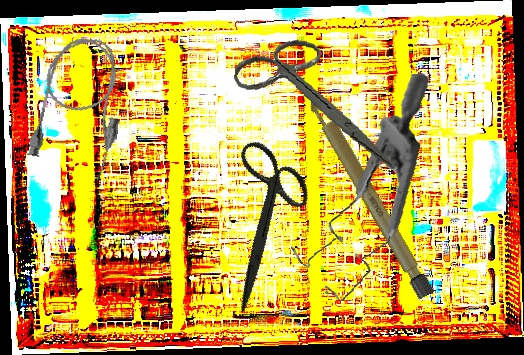Cannula: (25, 30, 136, 182)
Iris Scissors: (184, 128, 342, 314), (225, 31, 406, 169)
Scalpel Handle: (304, 91, 436, 300)
Speculum: (274, 72, 452, 306)
